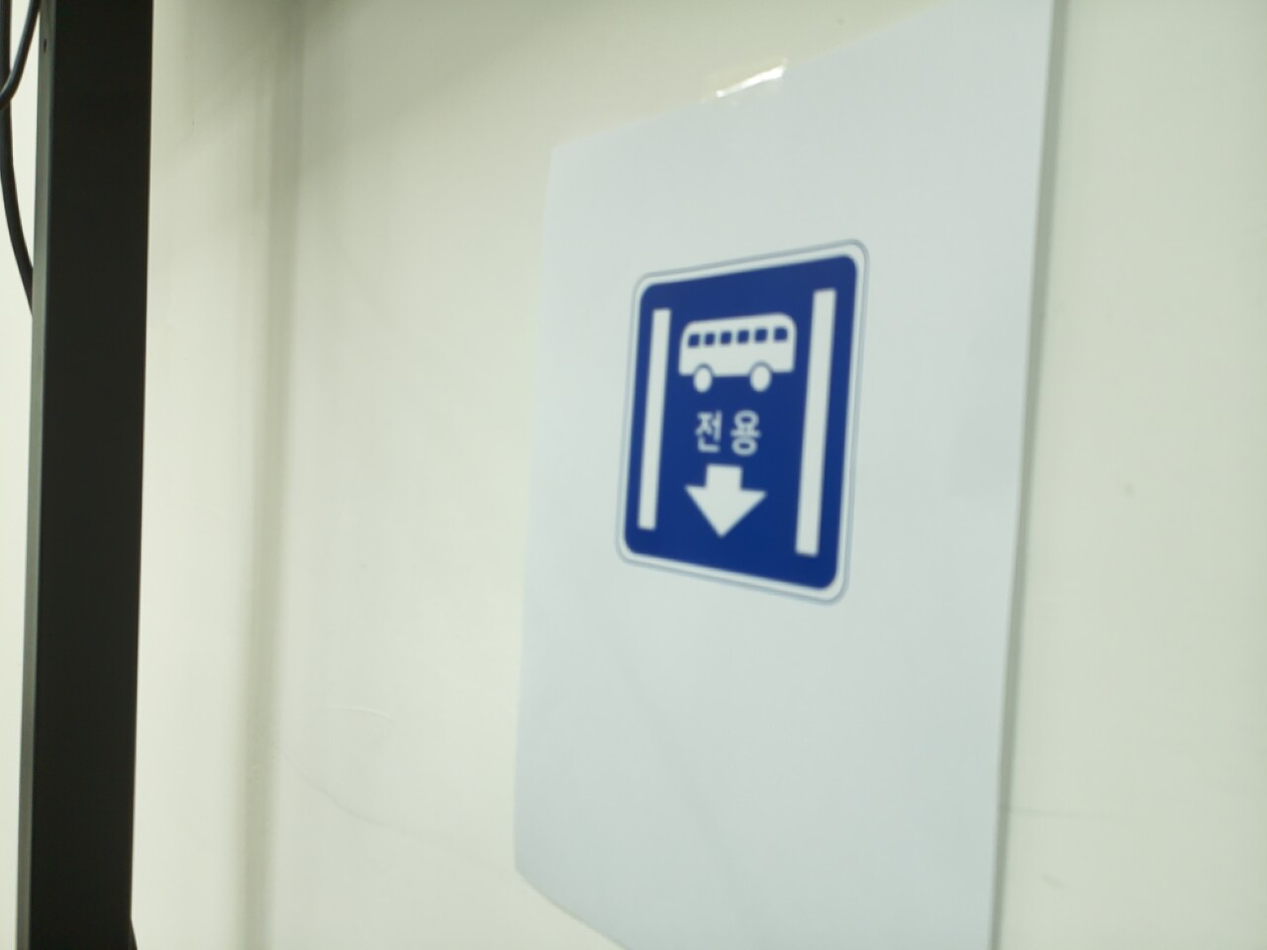bus_only_lane: (617, 245, 865, 600)
